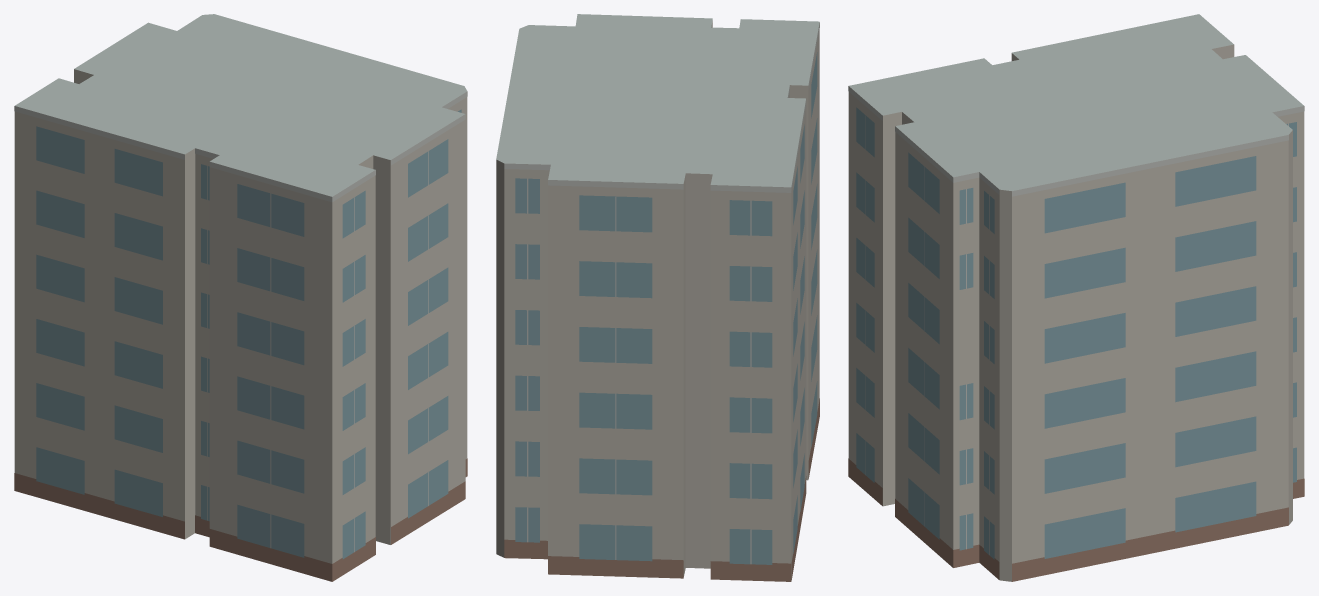
The model's file is survey-upis-33025182.glb.
3 renders of one model, left to right at view 1: azimuth 30°, elevation 25°; view 2: azimuth 150°, elevation 25°; view 3: azimuth 270°, elevation 25°, orthographic. The views are drawn at different scales.
Visible parts, largest first — view 1: survey-upis-33025182.tmp; view 2: survey-upis-33025182.tmp; view 3: survey-upis-33025182.tmp.
Part boxes in pixels (left/top/right/bottom): survey-upis-33025182.tmp: left=14, top=14, right=467, bottom=581; survey-upis-33025182.tmp: left=496, top=14, right=819, bottom=581; survey-upis-33025182.tmp: left=848, top=14, right=1304, bottom=581.
Size of the model in its own units: 16.74 by 17.2 by 18.2.
